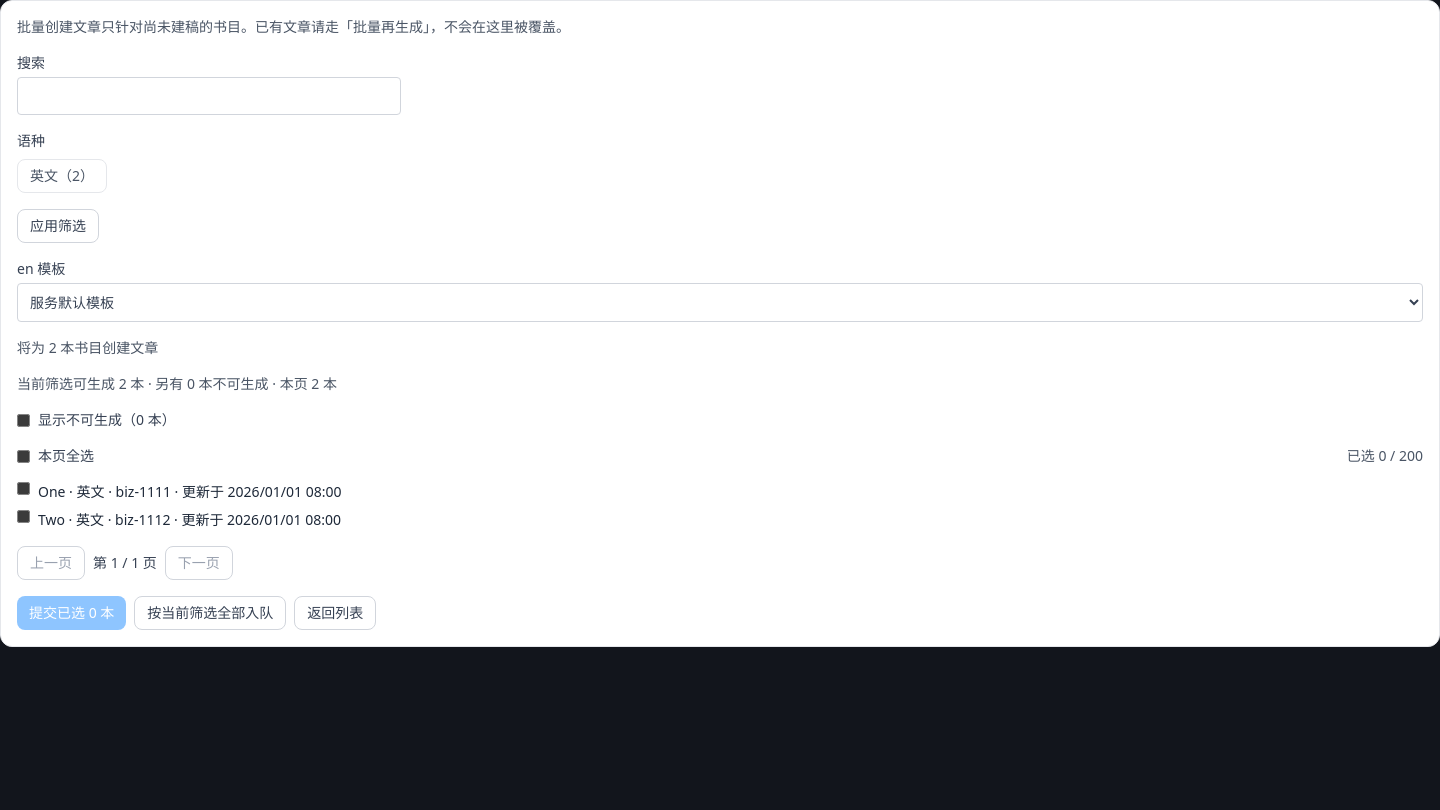
Test case: ArticleBatchGenerateForm (R2-02 / R2-03 / R2-04) › reports explicit admission counts returned by the server
Click the checkbox labelled "One · 英文 · biz-1111 · 更新于 2026/01/01 08:00". click: (24, 488)
box: [17,482,30,495]
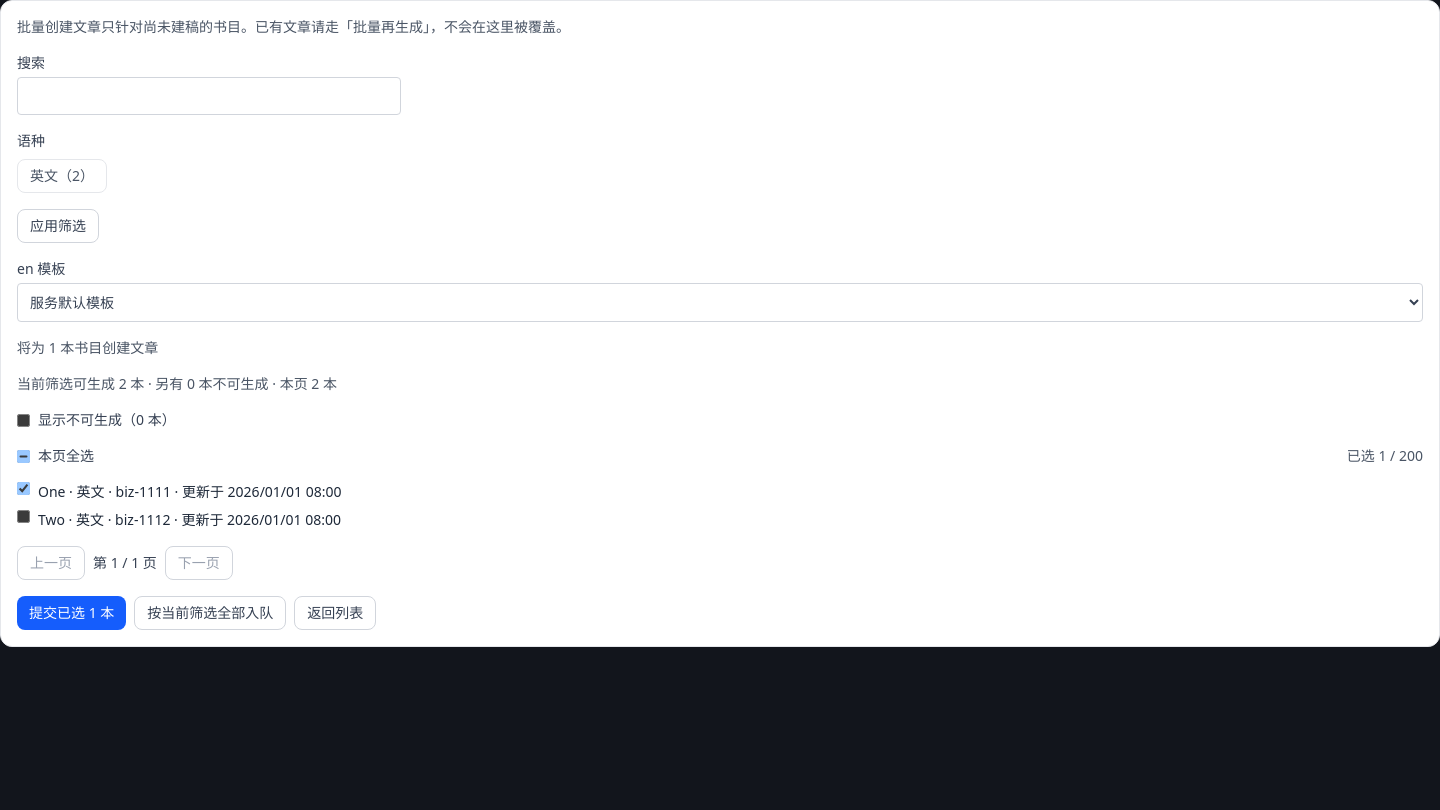
Click the checkbox labelled "Two · 英文 · biz-1112 · 更新于 2026/01/01 08:00". click: (24, 516)
box: [17,510,30,523]
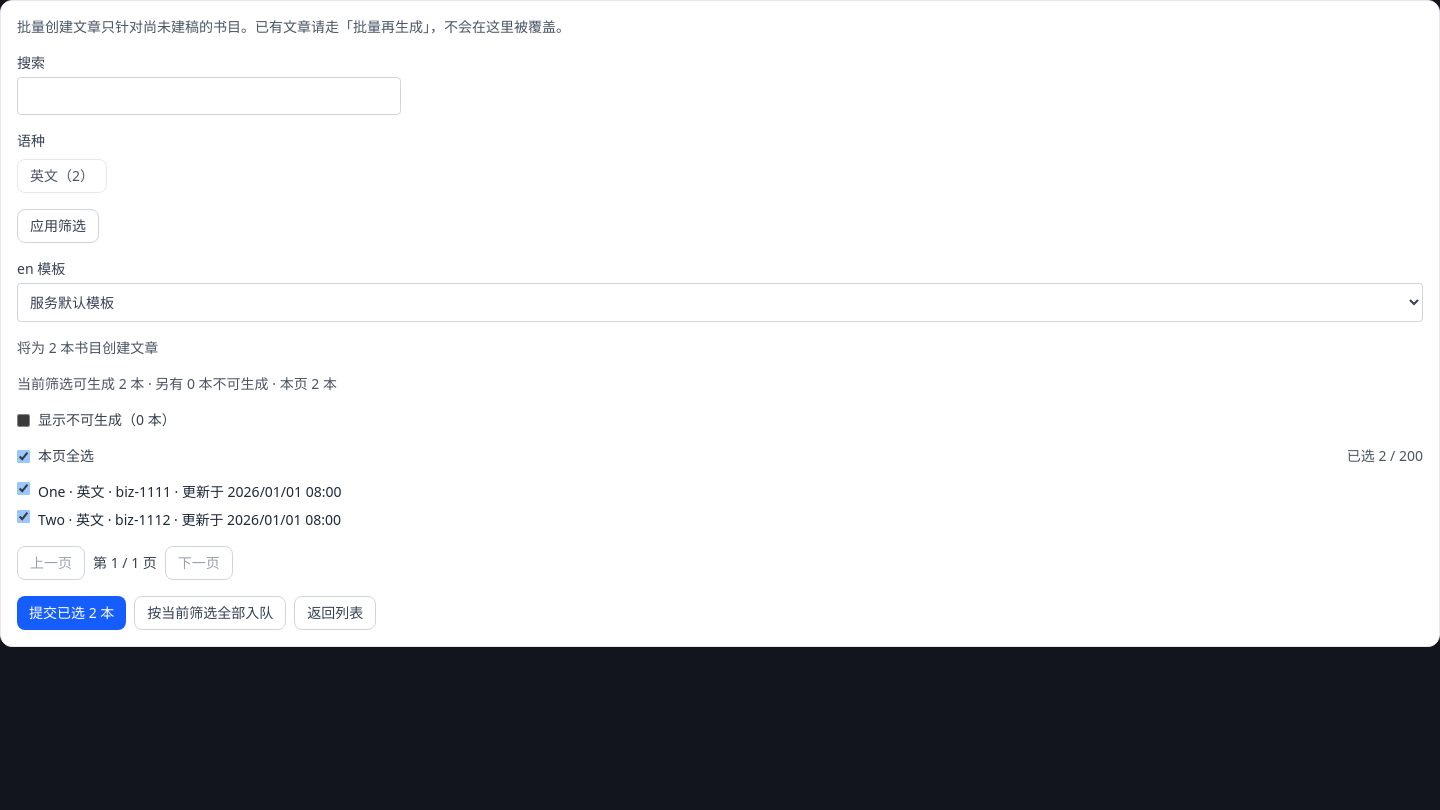
Click the button with test id "submit-selected". click: (72, 613)
box: [17,596,126,630]
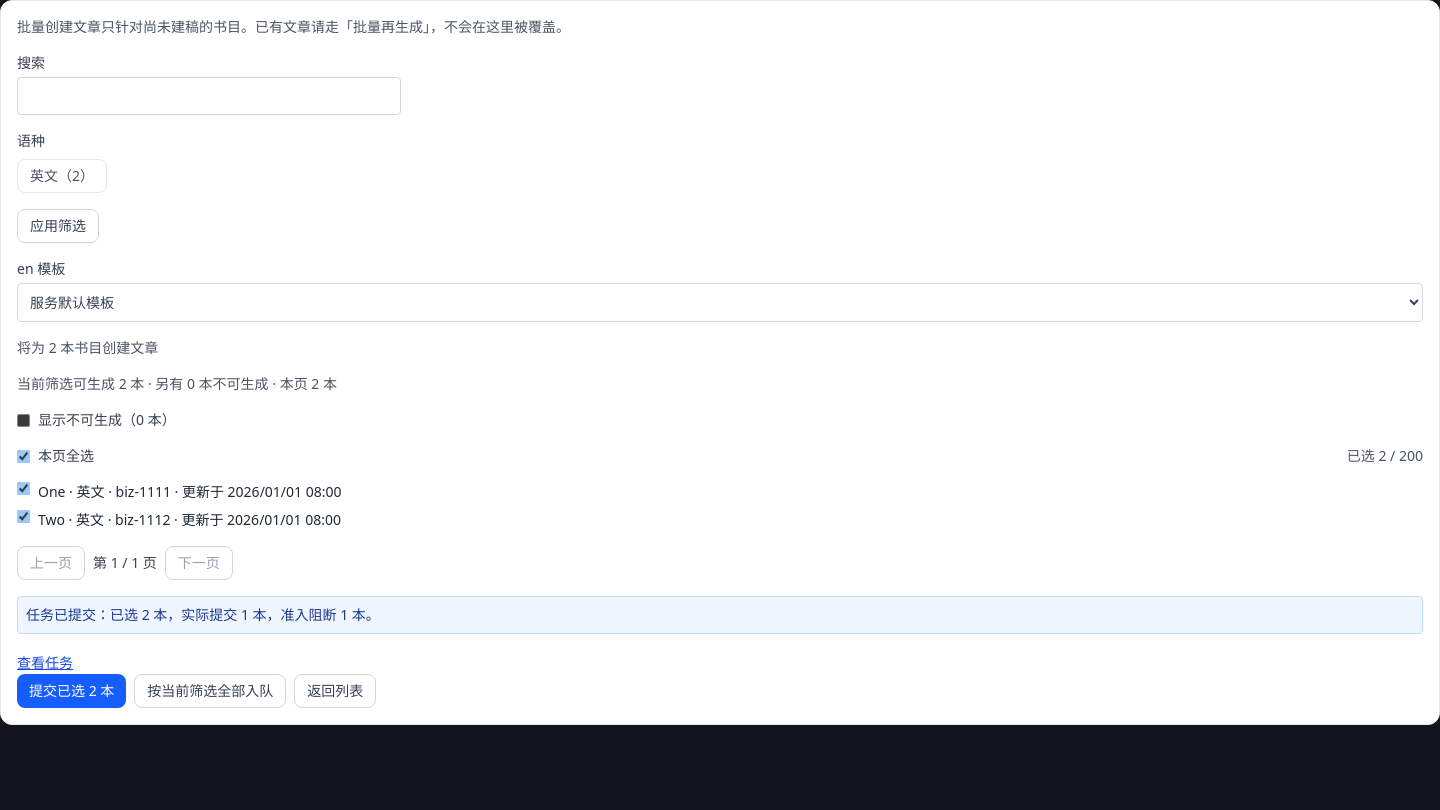
Check: the message with test id "batch-message" shows "已选 2 本，实际提交 1 本，准入阻断 1 本", box [26,605,380,624]
